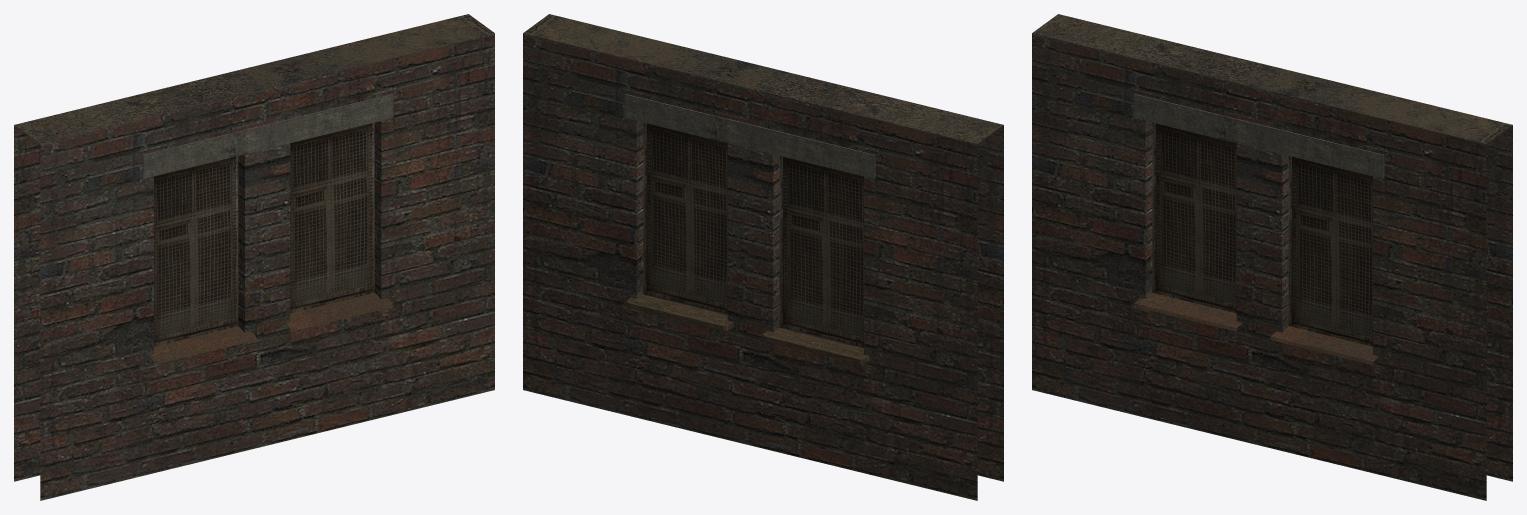
Rendered from windows_hs_1.obj.
3 renders of one model, left to right at view 1: azimuth 30°, elevation 25°; view 2: azimuth 150°, elevation 25°; view 3: azimuth 330°, elevation 25°, orthographic.
Parts seen in each view (by area): view 1: windows_hs_1; view 2: windows_hs_1; view 3: windows_hs_1.
Part boxes in pixels (x1,y1,x2,y2): windows_hs_1: [14, 14, 494, 500]; windows_hs_1: [523, 14, 1003, 500]; windows_hs_1: [1032, 14, 1512, 500].
Bounding box in the file's own units: 4 × 3 × 0.595.
